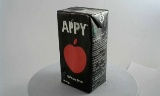appy: (51, 4, 102, 93)
